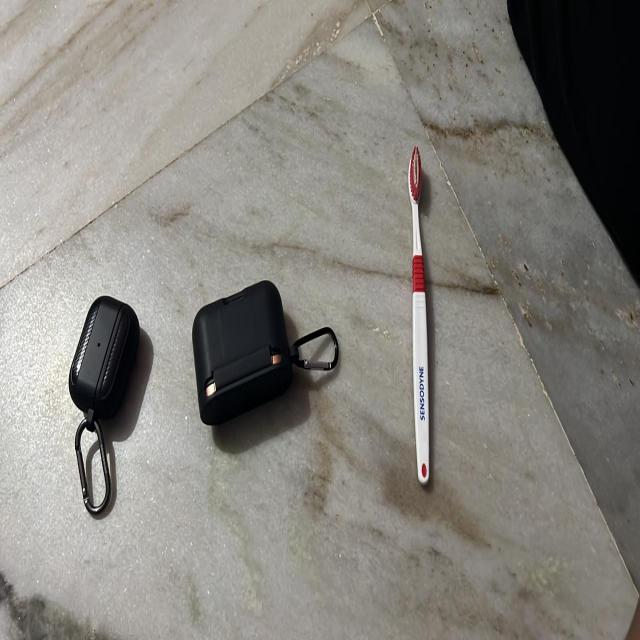metal: (70, 404, 114, 536)
plastic: (189, 285, 345, 440), (395, 132, 447, 496), (72, 290, 146, 406)
